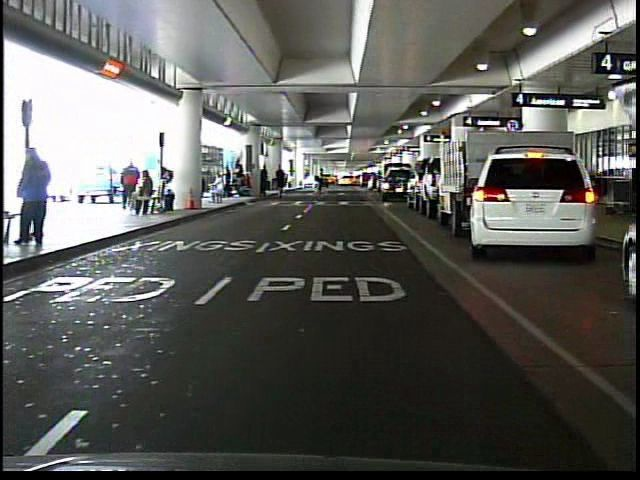person: (15, 143, 62, 254), (208, 171, 229, 207), (312, 165, 328, 195)
